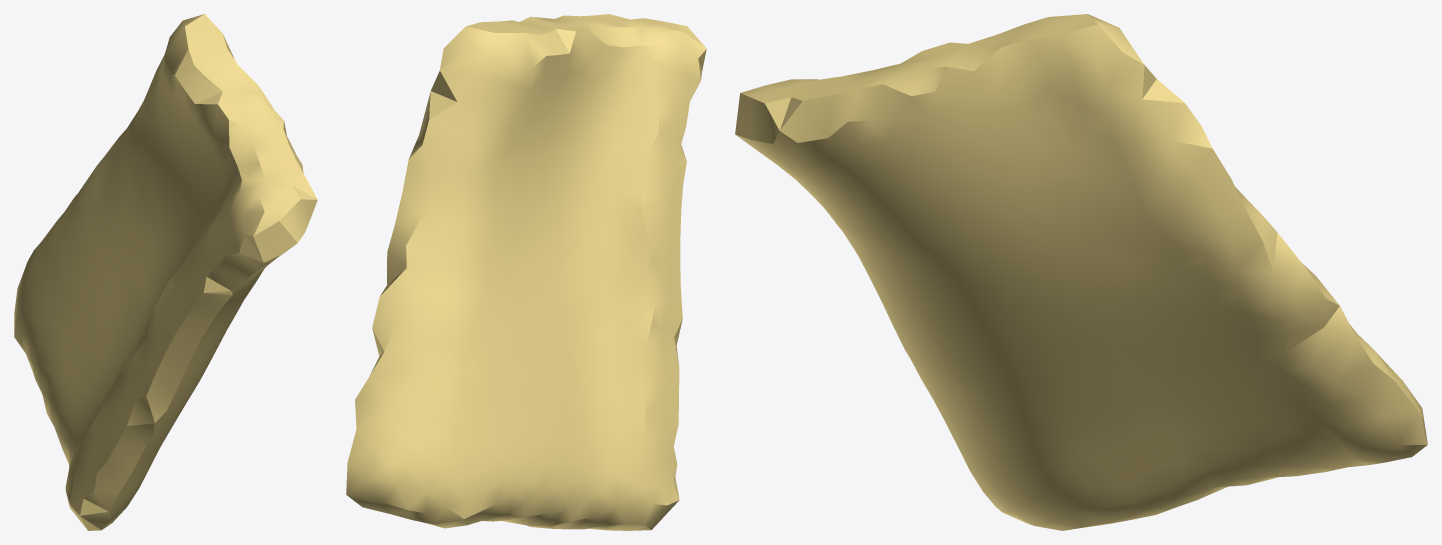
File: fma73590_mm3595m.glb
3 renders of one model, left to right at view 1: azimuth 30°, elevation 25°; view 2: azimuth 150°, elevation 25°; view 3: azimuth 270°, elevation 25°, orthographic. The views are drawn at different scales.
Visible parts, largest first — view 1: FMA73590_MM3595M; view 2: FMA73590_MM3595M; view 3: FMA73590_MM3595M.
Part boxes in pixels (x1,y1,x2,y2): FMA73590_MM3595M: (14, 14, 317, 530); FMA73590_MM3595M: (346, 14, 706, 530); FMA73590_MM3595M: (735, 14, 1427, 530).
Bounding box in the file's own units: 0.00164 × 0.00391 × 0.00422.
